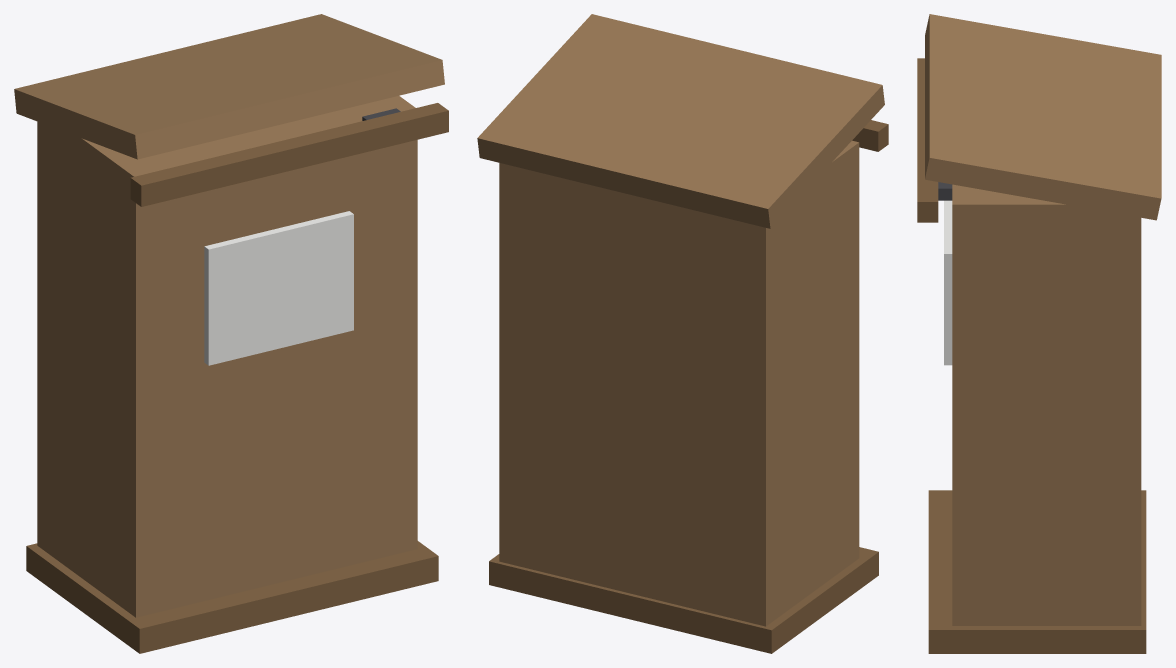
File: lectern.glb
The picture shows the model from 3 angles, left to right: view 1: azimuth 30°, elevation 25°; view 2: azimuth 150°, elevation 25°; view 3: azimuth 270°, elevation 25°; orthographic projection. The views are drawn at different scales.
Visible parts, largest first — view 1: Lectern; view 2: Lectern; view 3: Lectern.
Boxes of the visible parts, <box> form: Lectern: <box>14,14,448,653</box>; Lectern: <box>477,14,888,653</box>; Lectern: <box>917,14,1161,653</box>.
Bounding box in the file's own units: 0.36 × 0.5816 × 0.2582.
